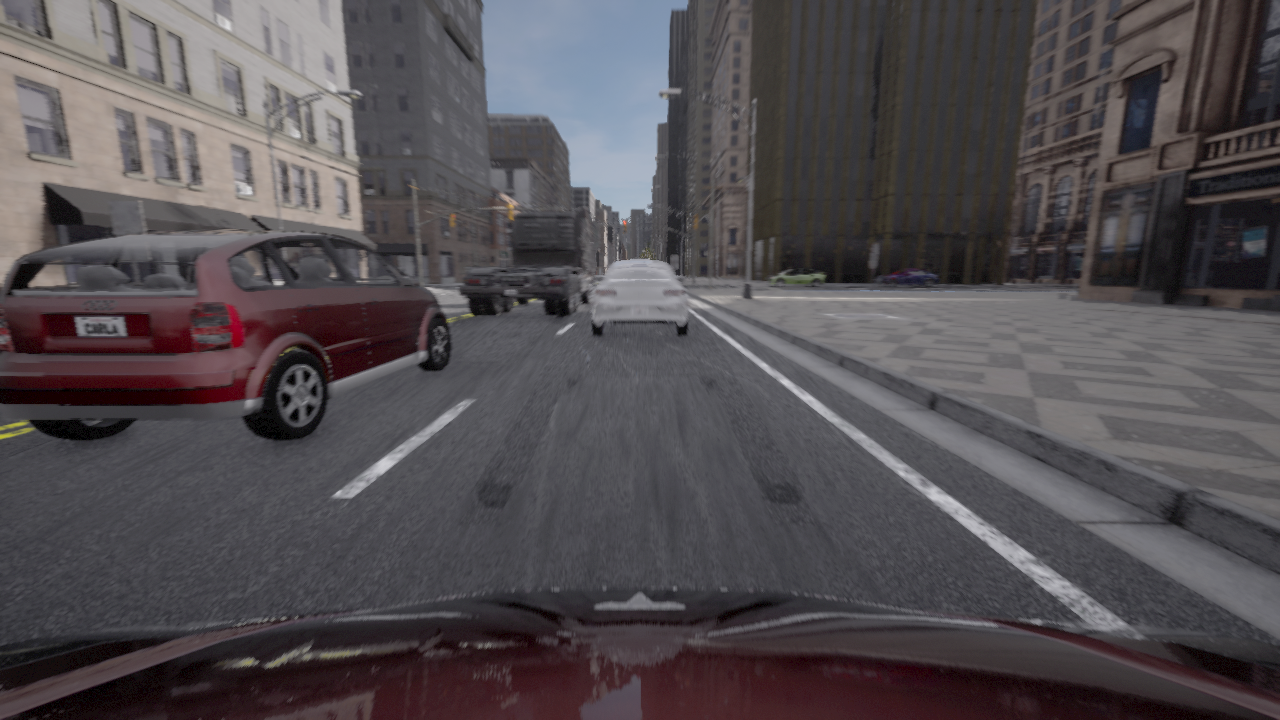cyclist: (0, 588, 1279, 719), (0, 230, 450, 441), (459, 208, 599, 316), (591, 260, 688, 336), (875, 269, 939, 287)
